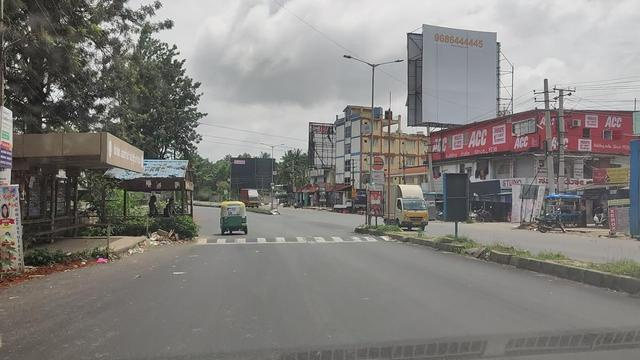LMV: (220, 201, 248, 233)
SpeedBump: (194, 233, 383, 247)
